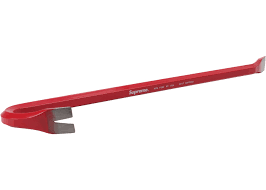crowbar: (1, 54, 265, 135)
